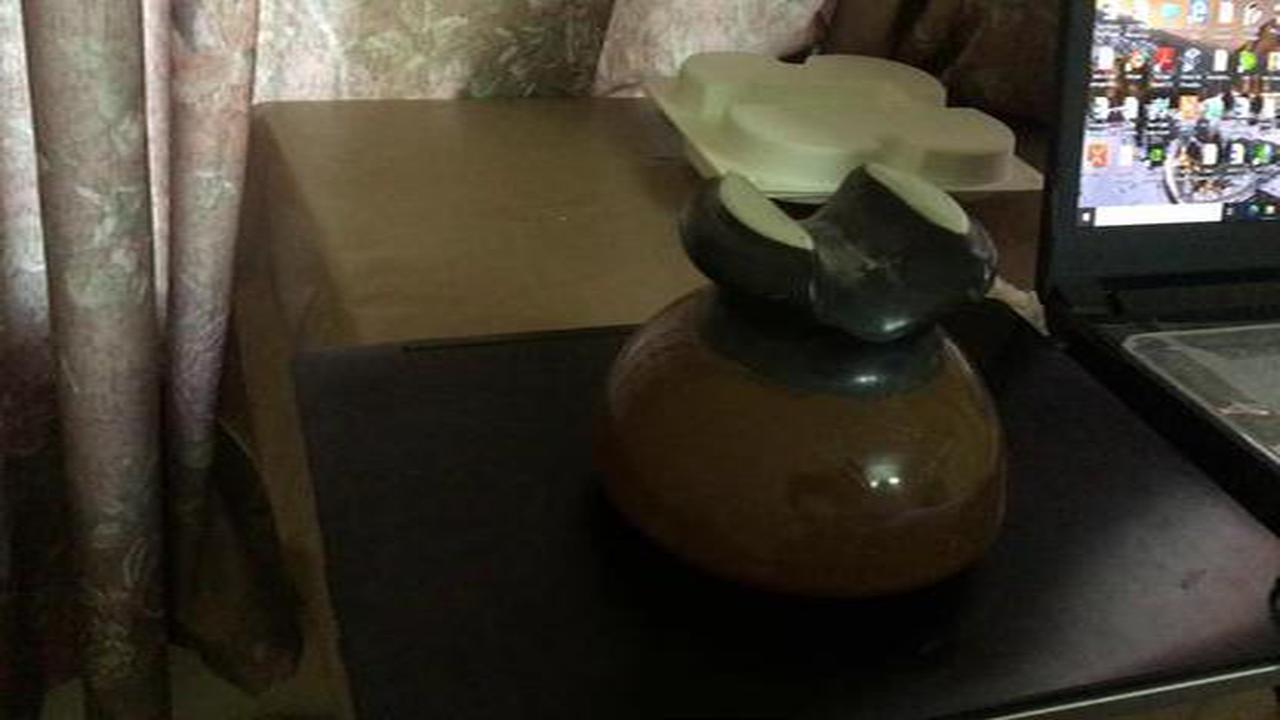insulator_pin: (567, 133, 1059, 618)
